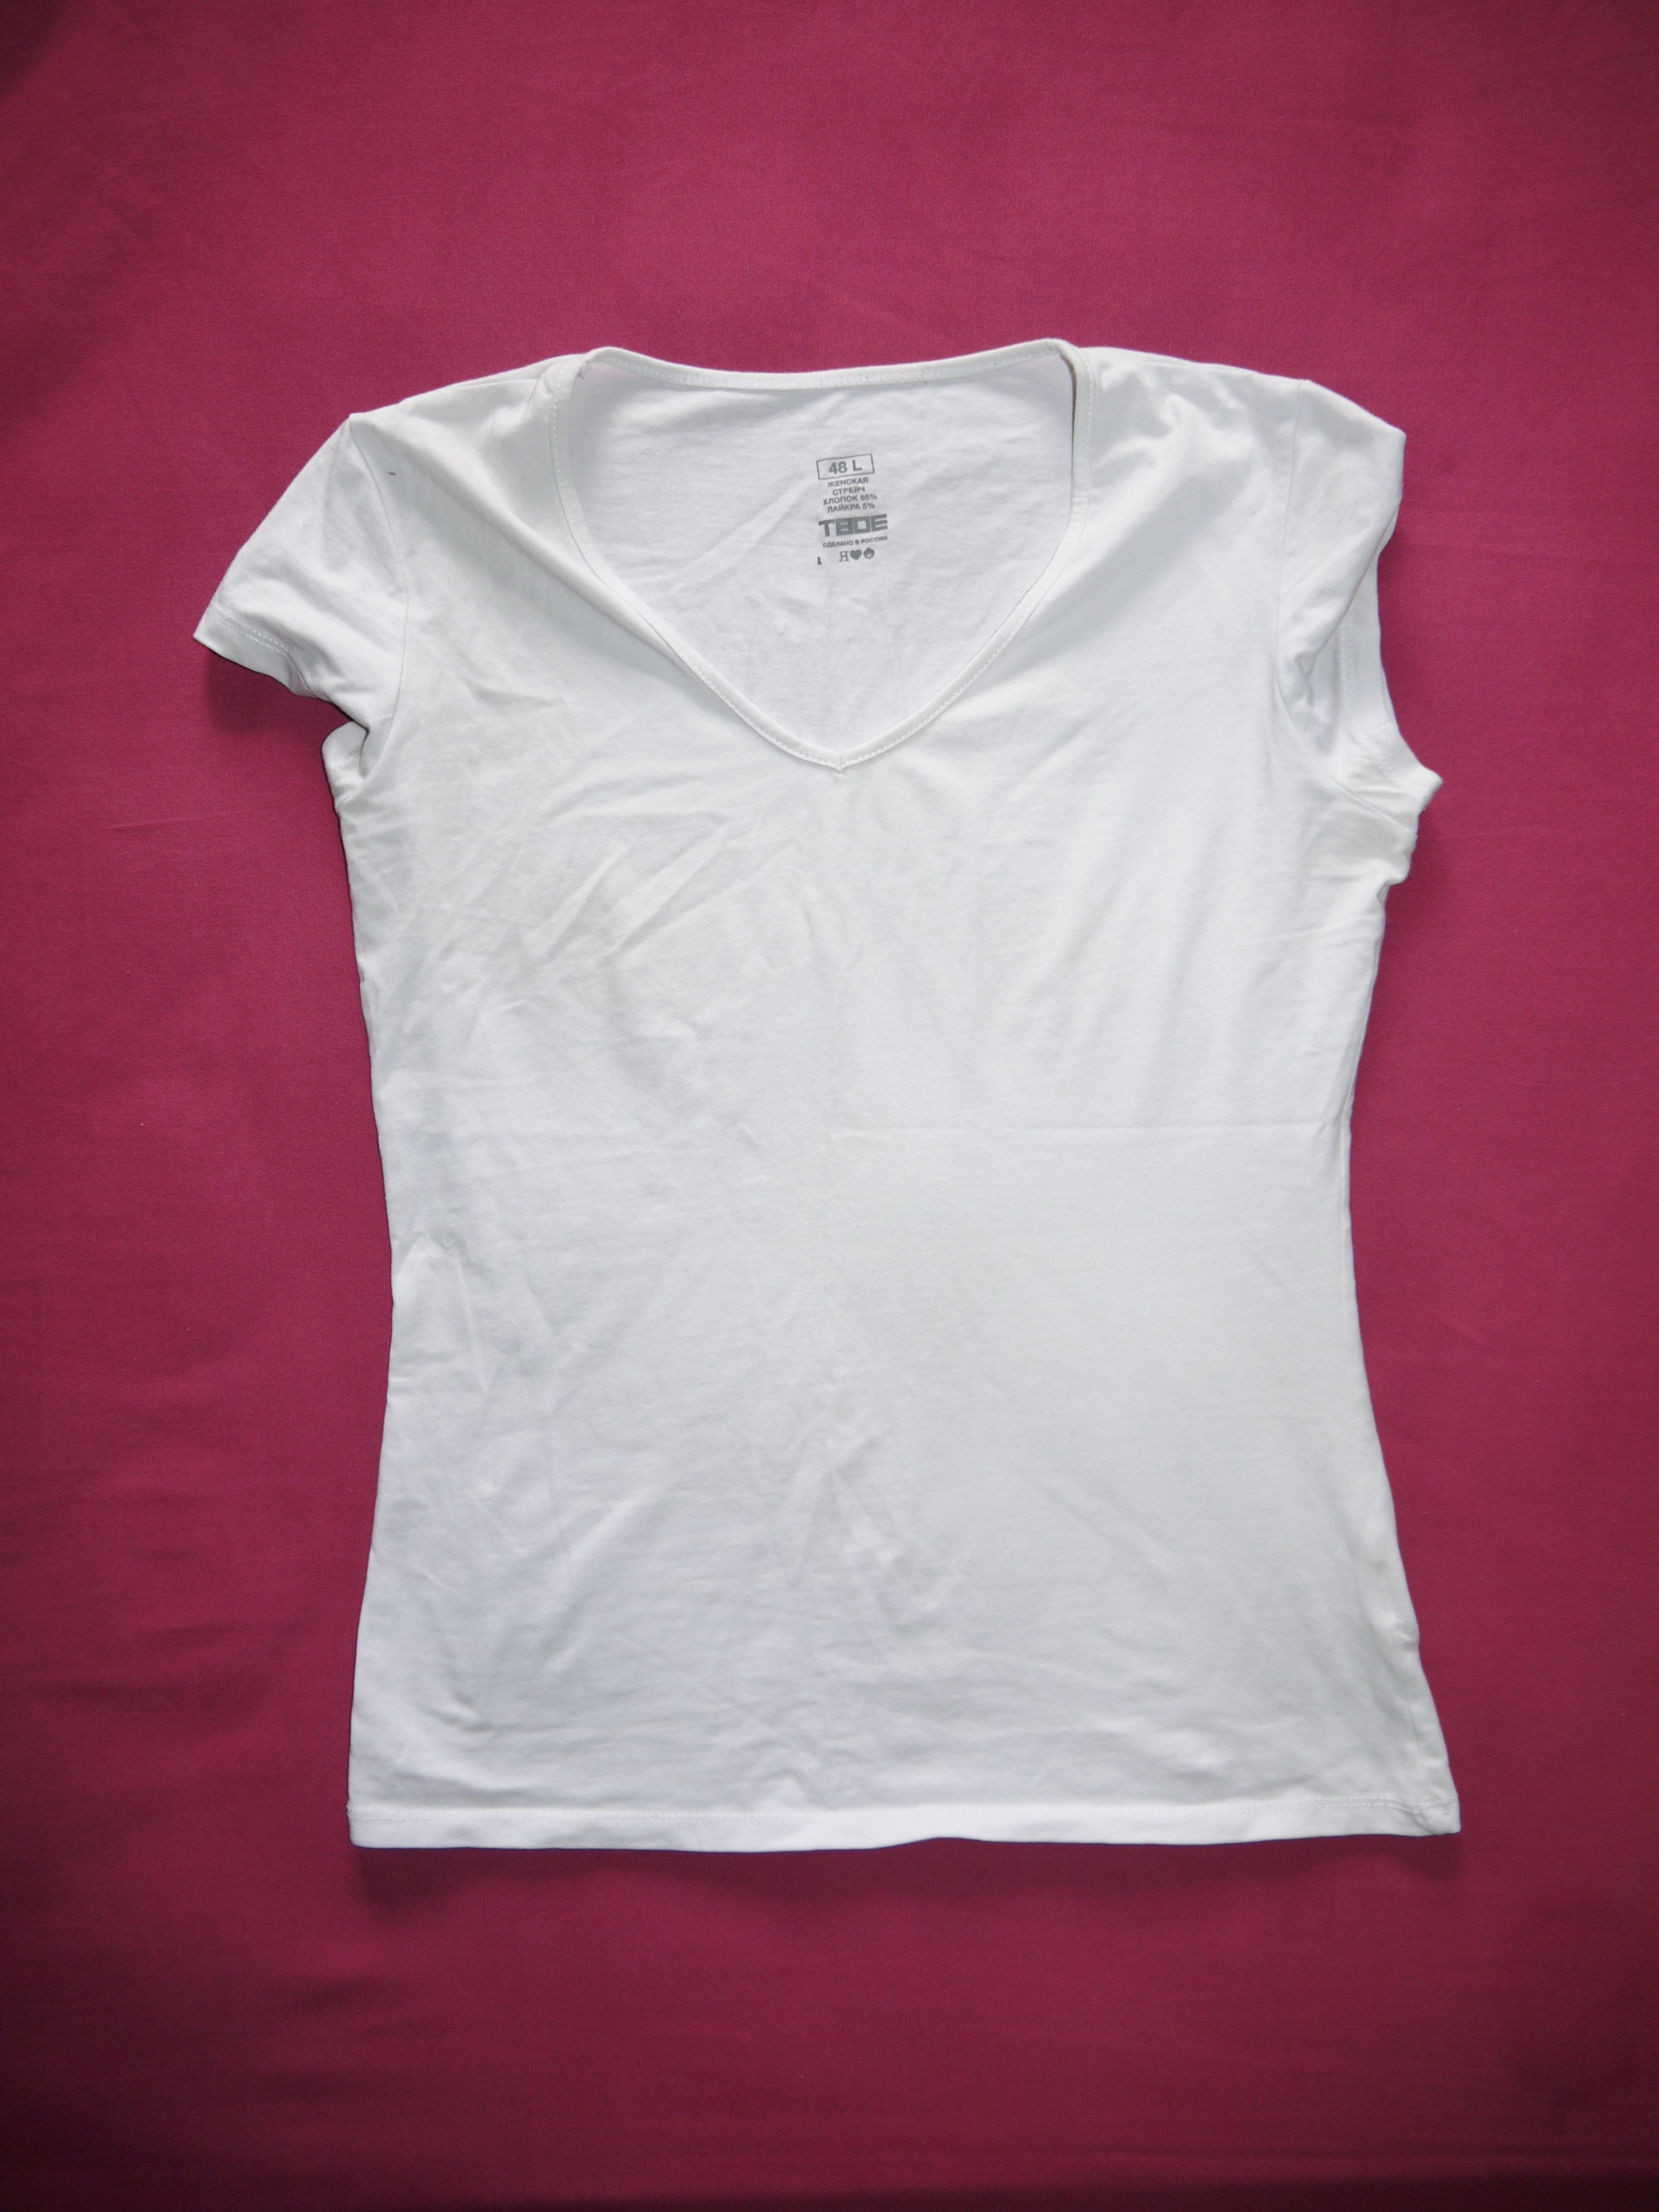clothes: (188, 331, 1471, 1878)
